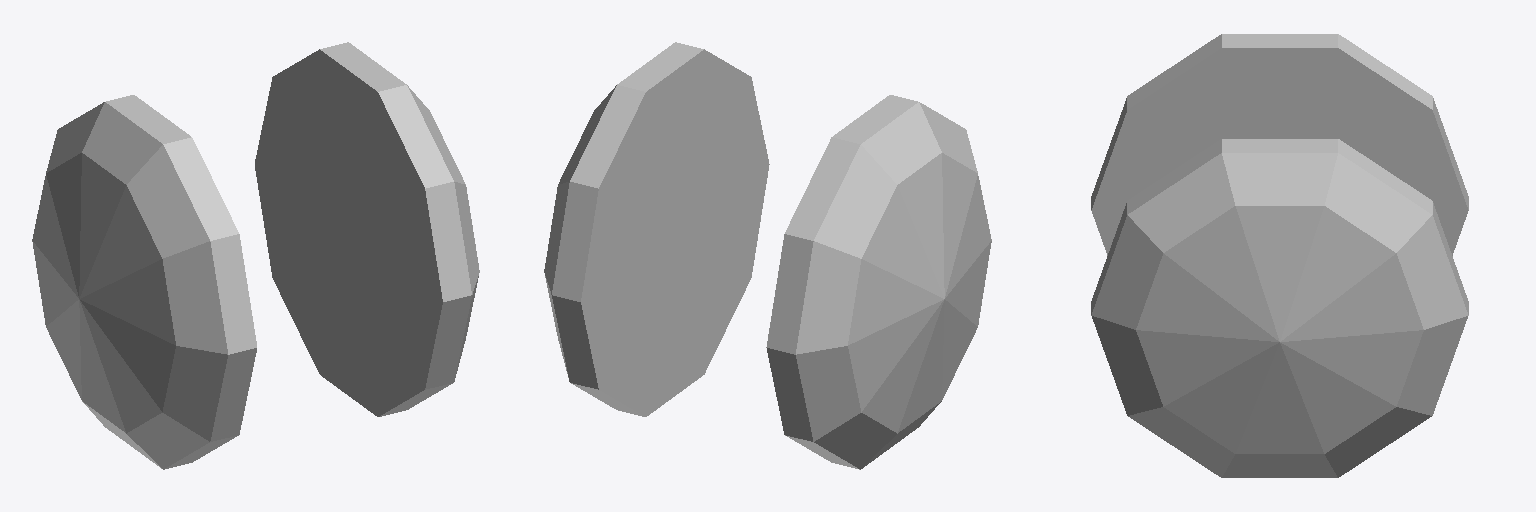
3 renders of one model, left to right at view 1: azimuth 30°, elevation 25°; view 2: azimuth 150°, elevation 25°; view 3: azimuth 270°, elevation 25°, orthographic.
Parts seen in each view (by area): view 1: part1:wheel 1; view 2: part1:wheel 1; view 3: part1:wheel 1.
Part boxes in pixels (x1,y1,x2,y2): part1:wheel 1: (32,42,479,469); part1:wheel 1: (544,42,991,469); part1:wheel 1: (1091,34,1468,477).
Bounding box in the file's own units: 0.0546 × 0.0481 × 0.0505.